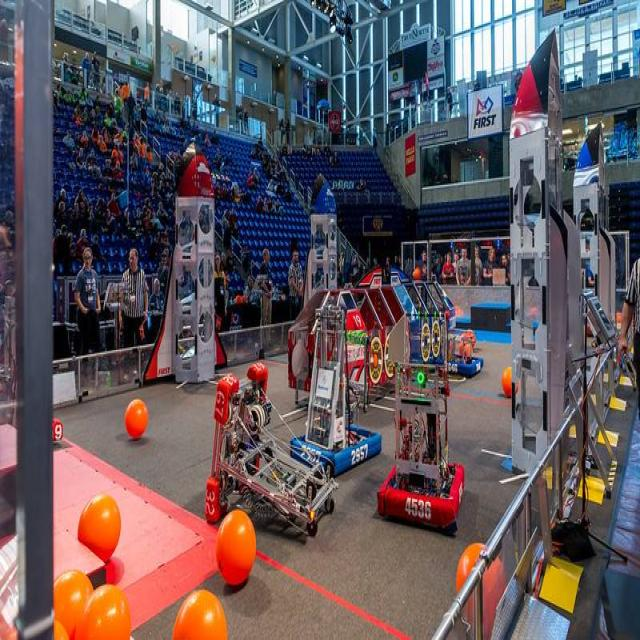robot: (203, 360, 339, 563), (374, 363, 468, 533), (298, 290, 382, 474), (434, 327, 484, 378)
